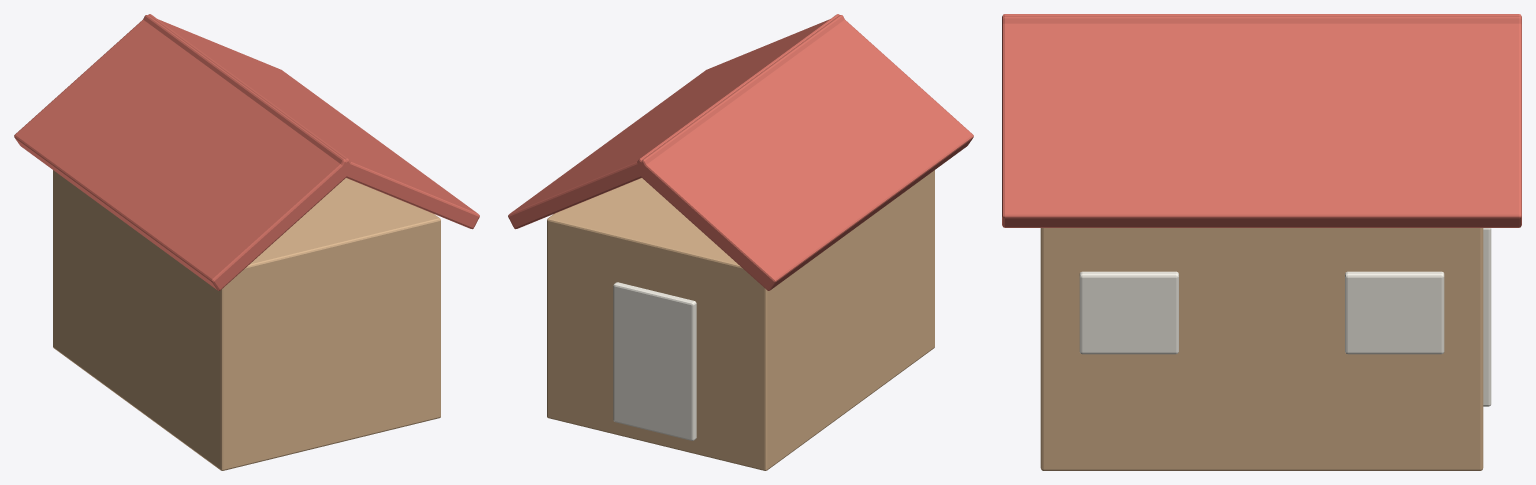
Rendered from gartenbahn_bahnhof.glb.
3 views of the same model, side by side, from view 1: azimuth 30°, elevation 25°; view 2: azimuth 150°, elevation 25°; view 3: azimuth 270°, elevation 25° (orthographic). The views are drawn at different scales.
Visible parts, largest first — view 1: gartenbahn_bahnhof_lod0; view 2: gartenbahn_bahnhof_lod0; view 3: gartenbahn_bahnhof_lod0.
Boxes of the visible parts, <box> form: gartenbahn_bahnhof_lod0: <box>14,14,479,470</box>; gartenbahn_bahnhof_lod0: <box>508,14,973,470</box>; gartenbahn_bahnhof_lod0: <box>1002,14,1521,470</box>.
Size of what is drawn, in the model's own units: 7.3 by 7.72 by 9.4.
